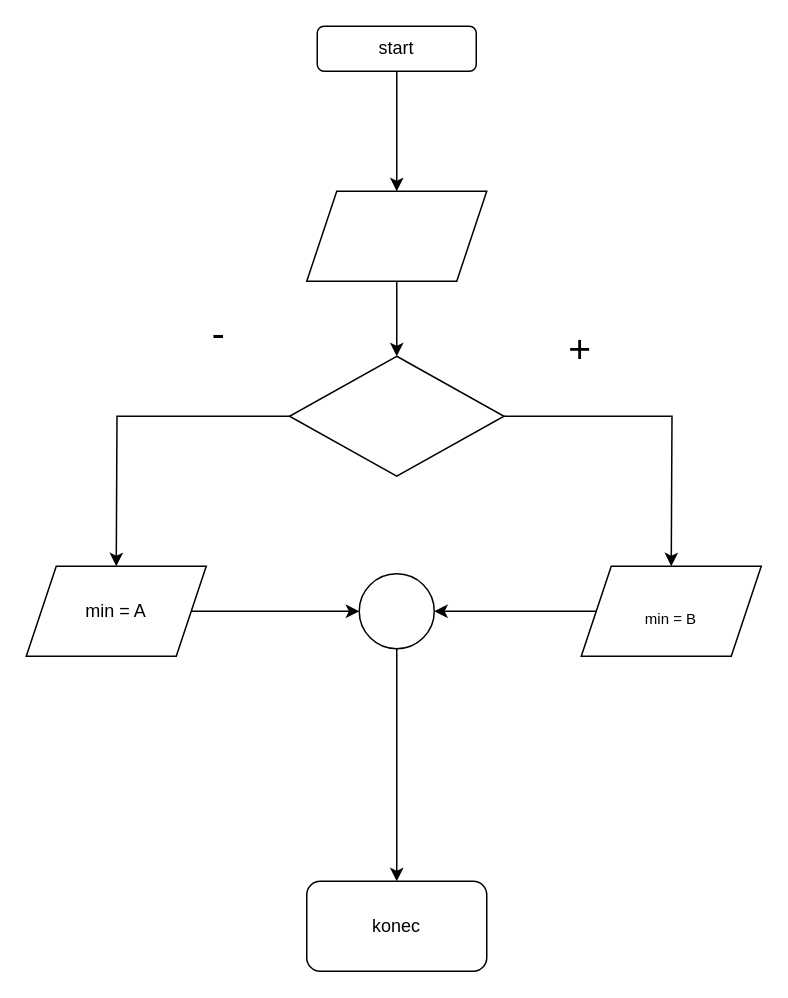
The diagram is 788 pixels wide and 998 high, and some of its shapes have lost their labels. Each missing label, with the centre of its shape:
A > B: the point at 396,415
načti A, B: the point at 396,235
